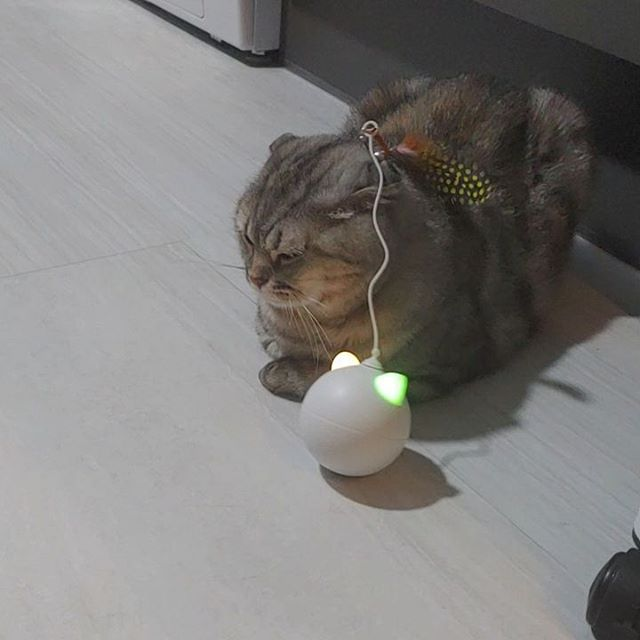cat: (227, 136, 417, 326)
